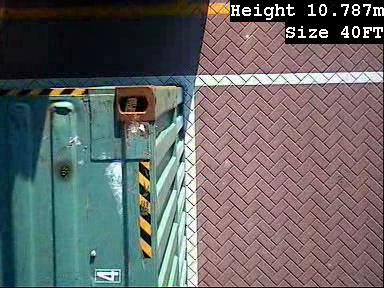groundmarker_2: (108, 16, 237, 88)
